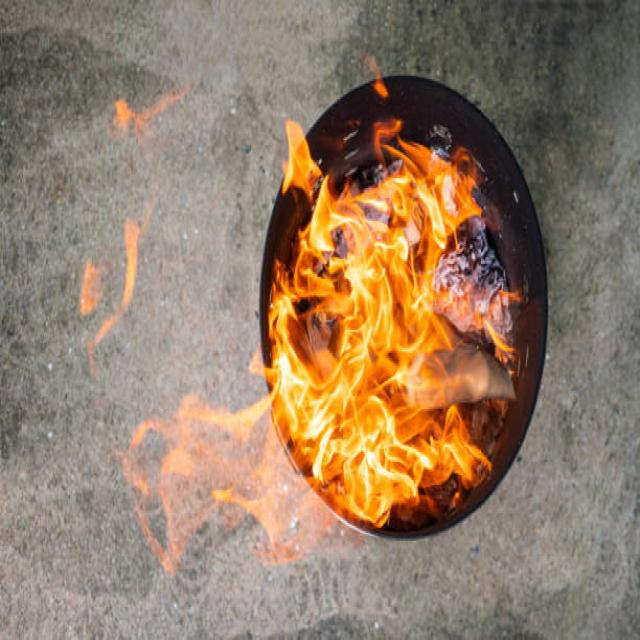fire: (112, 349, 362, 573), (86, 208, 148, 372), (344, 263, 453, 353), (403, 142, 484, 218), (418, 406, 491, 489), (342, 427, 417, 497), (272, 322, 309, 431), (111, 85, 190, 136), (281, 119, 323, 205), (310, 174, 353, 250), (372, 353, 425, 395), (353, 175, 403, 218), (354, 222, 409, 261), (310, 361, 342, 427), (403, 218, 466, 251), (293, 248, 336, 295), (342, 357, 370, 415), (373, 116, 403, 169), (344, 497, 393, 529), (361, 50, 389, 98), (313, 424, 335, 484), (81, 251, 101, 313)
